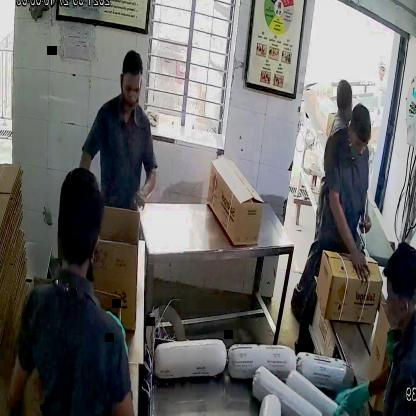no_goggles: (116, 77, 146, 101), (344, 130, 372, 152)
